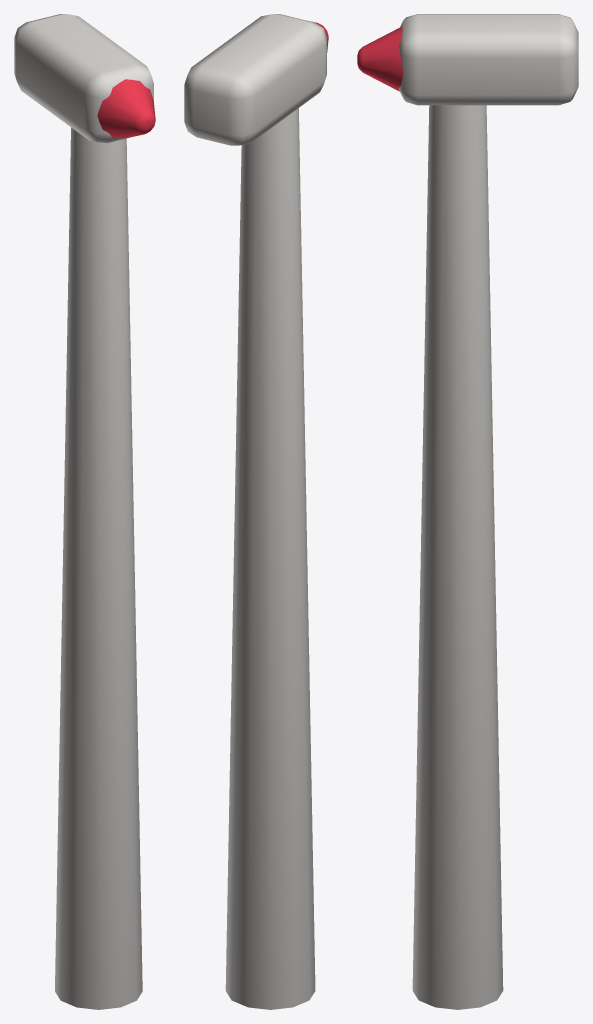
Rendered from sky_turbine.glb.
3 renders of one model, left to right at view 1: azimuth 30°, elevation 25°; view 2: azimuth 150°, elevation 25°; view 3: azimuth 270°, elevation 25°, orthographic. The views are drawn at different scales.
Visible parts, largest first — view 1: Turbine; view 2: Turbine; view 3: Turbine.
Part boxes in pixels (box(x1,y1,x2,y2)): Turbine: box(14, 14, 155, 1009); Turbine: box(184, 14, 328, 1009); Turbine: box(357, 14, 578, 1009).
Size of the model in its own units: 0.9 by 10.6 by 2.2.
